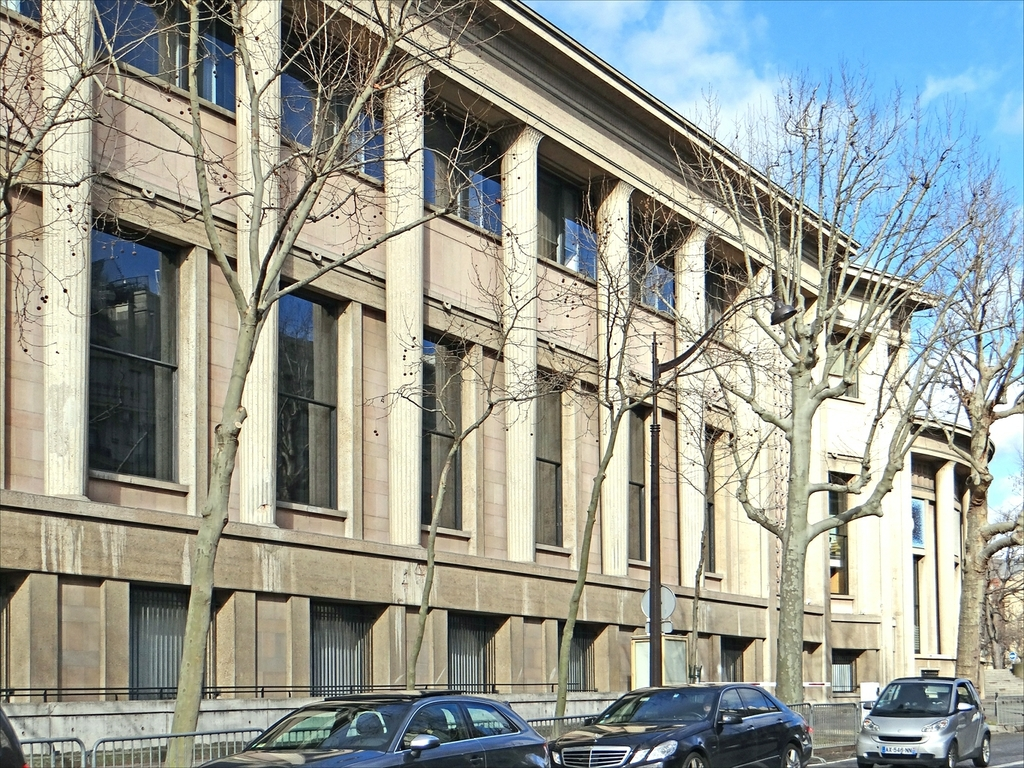Car: (192, 690, 551, 767), (564, 691, 814, 768), (850, 674, 990, 767), (0, 705, 30, 767)
